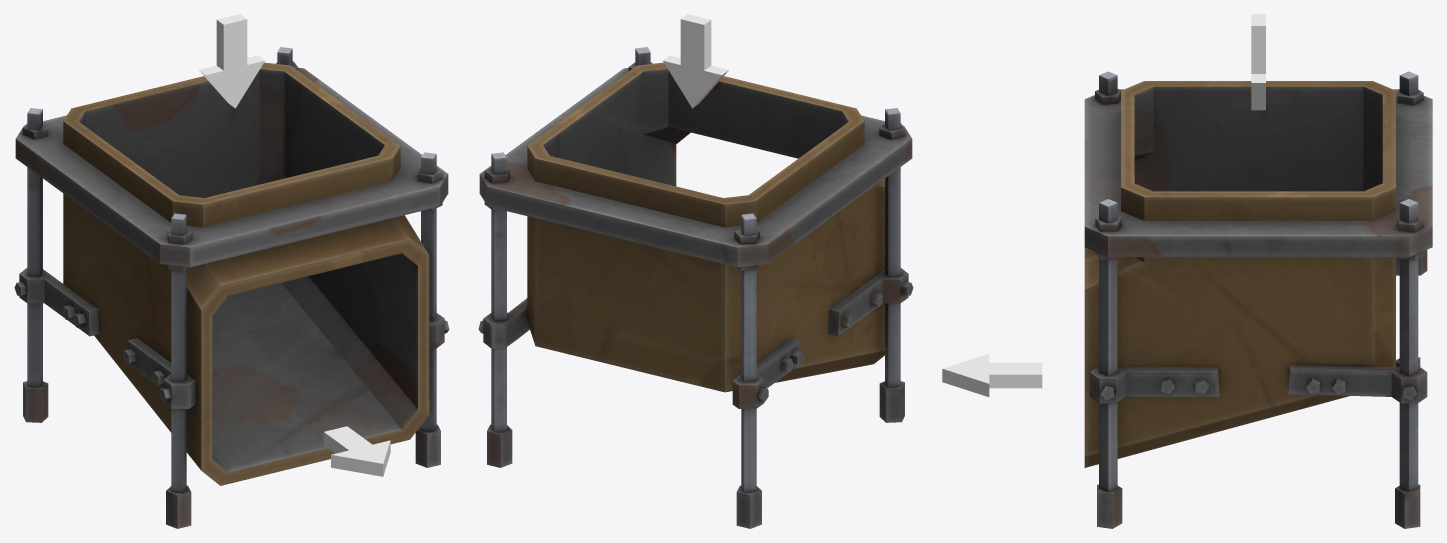
File: Chute_Angled.glb
The picture shows the model from 3 angles, left to right: view 1: azimuth 30°, elevation 25°; view 2: azimuth 150°, elevation 25°; view 3: azimuth 270°, elevation 25°; orthographic projection. The views are drawn at different scales.
Visible parts, largest first — view 1: Chute_Angled, ghostarrow, ghostarrow (1); view 2: Chute_Angled, ghostarrow; view 3: Chute_Angled, ghostarrow (1), ghostarrow.
Boxes of the visible parts, box(x1,y1,x2,y2) form: Chute_Angled: box(14, 47, 449, 528); ghostarrow: box(199, 14, 264, 108); ghostarrow (1): box(323, 426, 390, 476); Chute_Angled: box(478, 47, 913, 528); ghostarrow: box(663, 14, 728, 108); Chute_Angled: box(1084, 71, 1432, 528); ghostarrow (1): box(942, 354, 1042, 396); ghostarrow: box(1251, 14, 1265, 110).
Size of the model in its own units: 1 by 1.39 by 1.41.
Materials: 2 (1 with a texture image).
